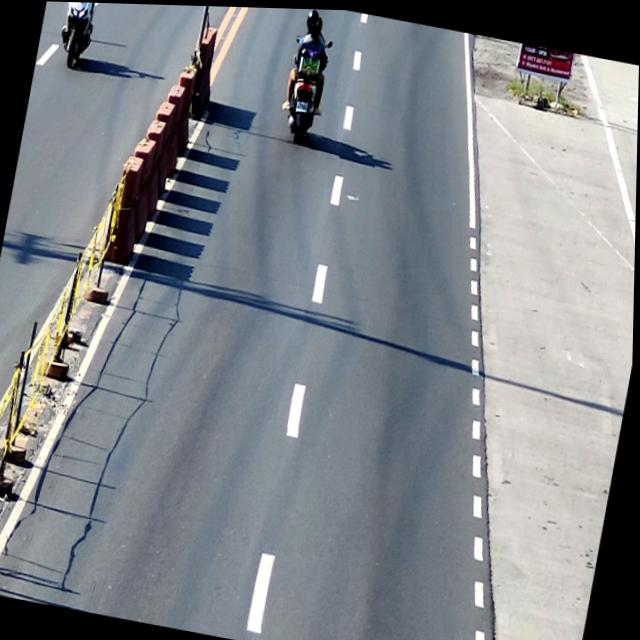License-Plate: (296, 99, 309, 112)
Motorcycle: (278, 32, 333, 144), (52, 1, 106, 72)
